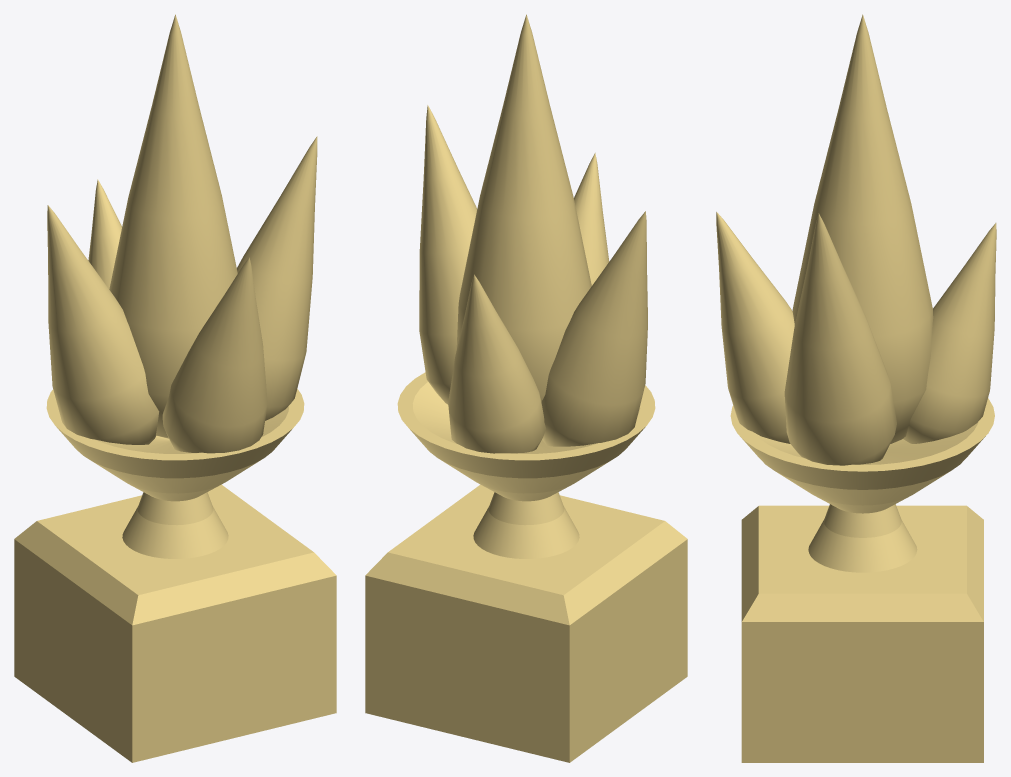
Rendered from flame.glb.
The picture shows the model from 3 angles, left to right: view 1: azimuth 30°, elevation 25°; view 2: azimuth 150°, elevation 25°; view 3: azimuth 270°, elevation 25°; orthographic projection. The views are drawn at different scales.
Visible parts, largest first — view 1: flame; view 2: flame; view 3: flame.
Boxes of the visible parts, x1,y1,x2,y2 form: flame: (14, 14, 336, 762); flame: (365, 14, 687, 762); flame: (716, 14, 996, 762).
Bounding box in the file's own units: 0.3717 × 0.99 × 0.3605.
